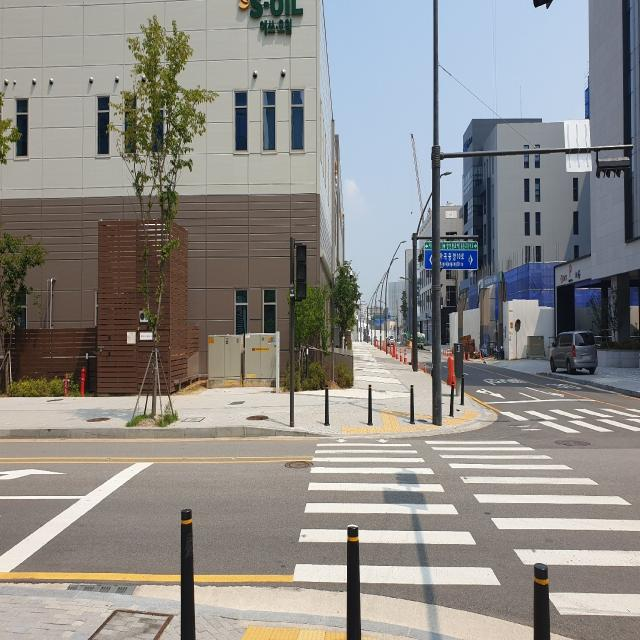횡단보도: (292, 437, 640, 620), (491, 399, 640, 434)
